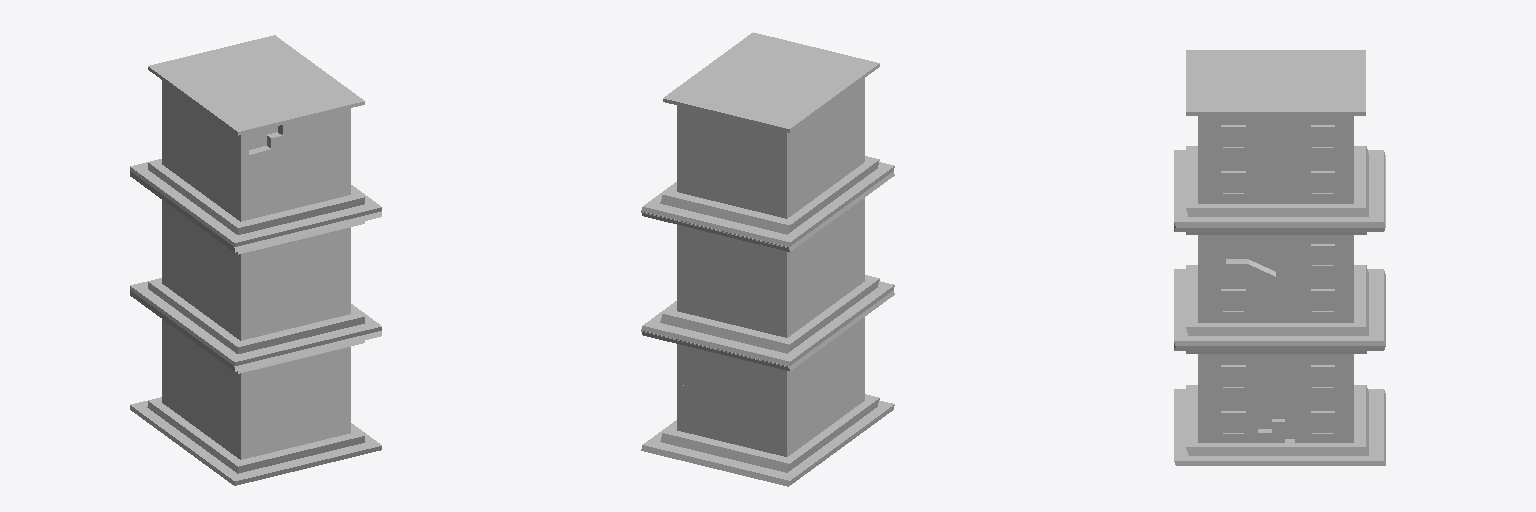
The model's file is Building.obj.
The picture shows the model from 3 angles: view 1: azimuth 30°, elevation 25°; view 2: azimuth 150°, elevation 25°; view 3: azimuth 270°, elevation 25°; orthographic projection.
Visible parts, largest first — view 1: Top, Bottom, Middle; view 2: Top, Bottom, Middle; view 3: Top, Middle, Bottom, Window_1, Window_3, Window_6, Window_8, Window_10, Window_2, Window_4, Window_5, Window_7 (+2 smaller).
Boxes of the visible parts, x1,y1,x2,y2 form: Top: [130, 35, 381, 246]; Bottom: [130, 290, 381, 485]; Middle: [130, 171, 381, 365]; Top: [641, 32, 894, 247]; Bottom: [641, 290, 894, 486]; Middle: [641, 171, 894, 367]; Top: [1174, 50, 1385, 227]; Middle: [1174, 155, 1385, 345]; Bottom: [1174, 343, 1385, 465]; Window_1: [1221, 125, 1245, 148]; Window_3: [1221, 171, 1245, 194]; Window_6: [1221, 289, 1245, 312]; Window_8: [1221, 365, 1245, 388]; Window_10: [1221, 411, 1245, 434]; Window_2: [1311, 125, 1334, 148]; Window_4: [1311, 171, 1334, 194]; Window_5: [1311, 244, 1334, 267]; Window_7: [1311, 289, 1334, 312].
Size of the model in its own units: 2835 by 6364 by 3506.